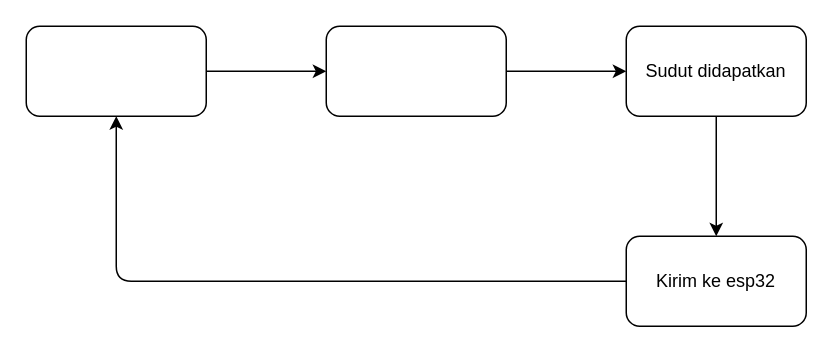
Image size: 833x353. Some labels were removed from this diagram. The centre of each missing label's shape, as x and y in pixels:
"Input lokasi target terbaru" goes at point (115, 70).
"Menghitung derajat setiap link" goes at point (415, 70).
